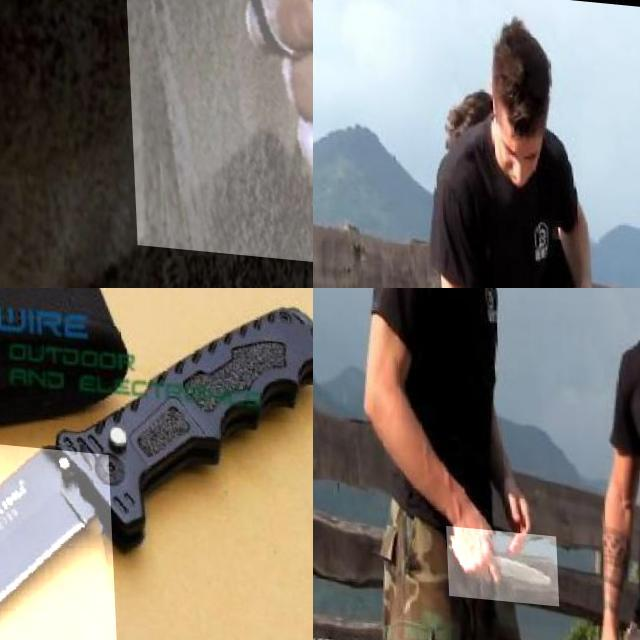-: (0, 425, 151, 640), (442, 520, 554, 598)
gun-knife-thesis - v11 Yolov5 augmented: (117, 0, 313, 262)
